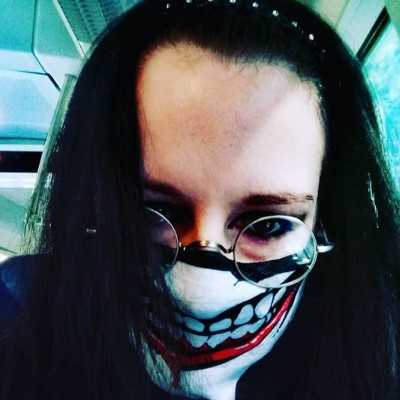face_with_mask: (96, 7, 338, 396)
